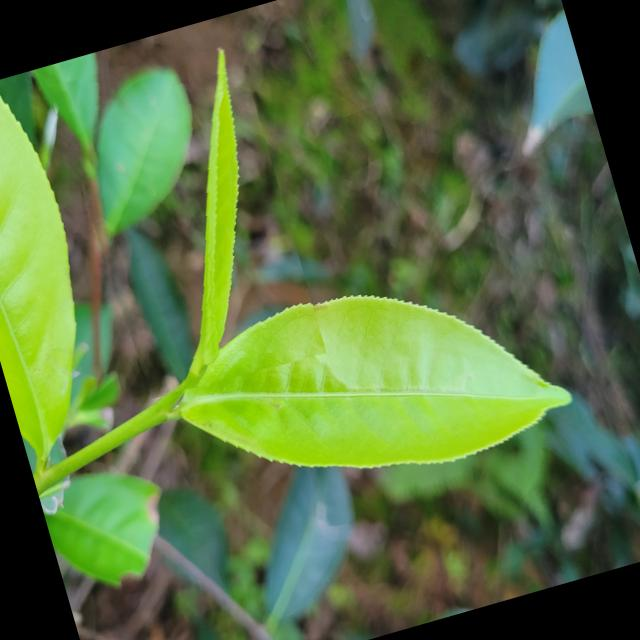Catagory A(1-2 days): (47, 34, 326, 406)
